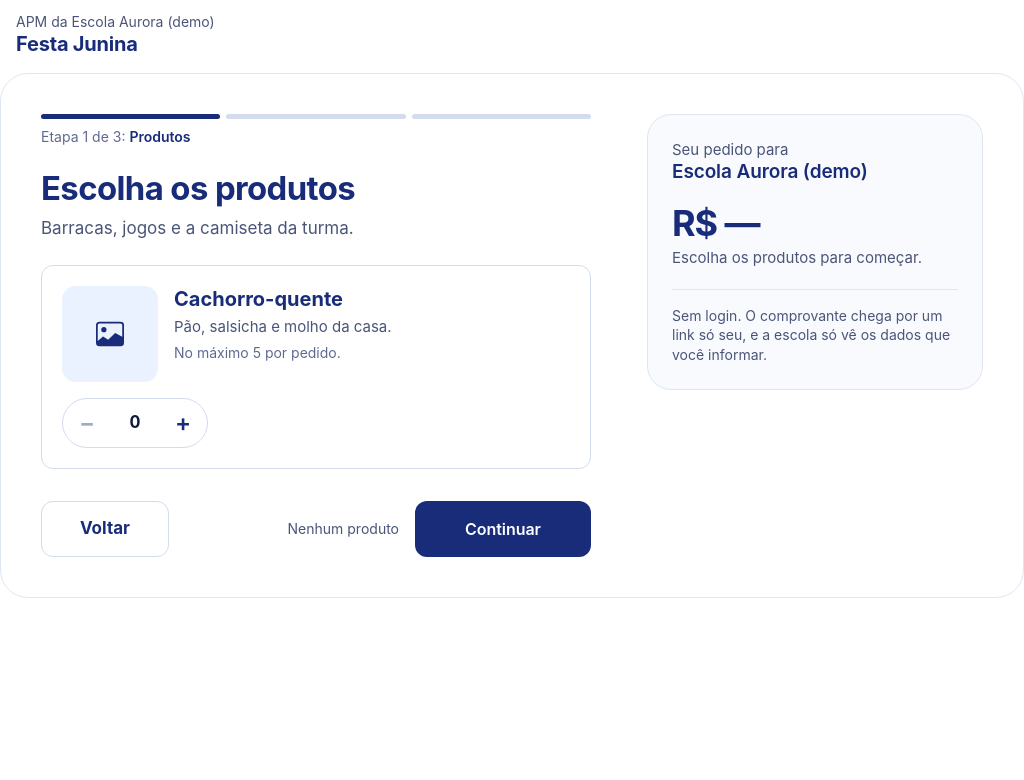
Test case: o pedido › sem campos de identificacao visiveis, pula direto da escolha para a revisao
Click the button named "Adicionar um Cachorro-quente" at [183, 423], box [159,399,207,447]
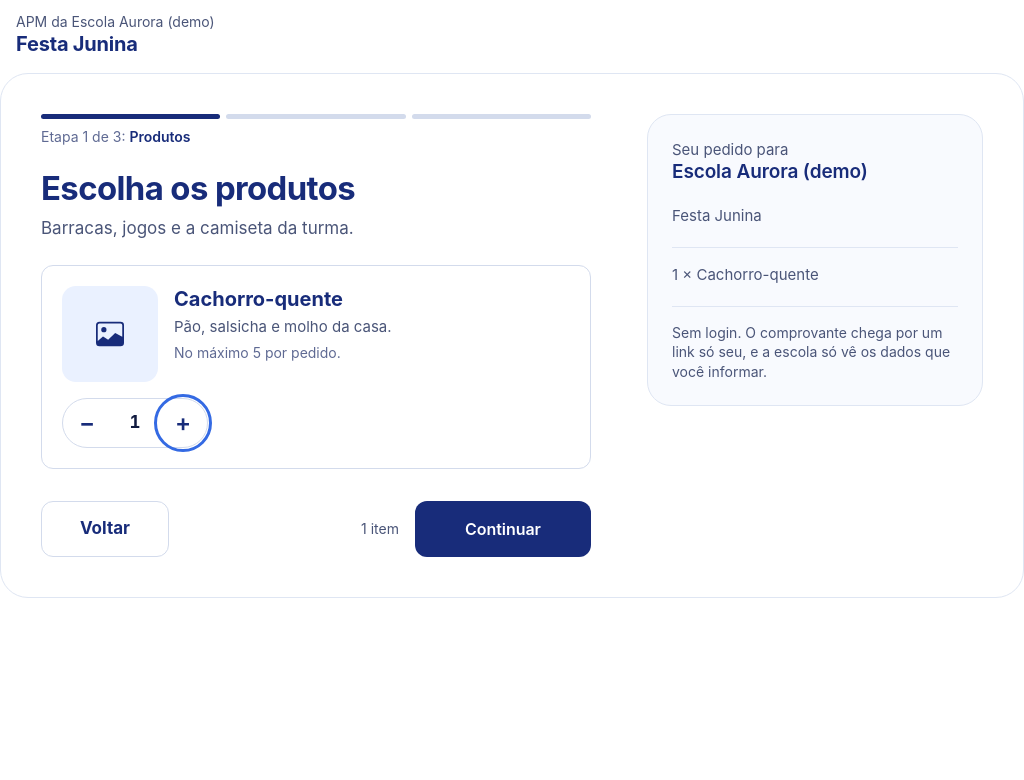
Click the button "Continuar" at [503, 529], box [415,501,591,557]
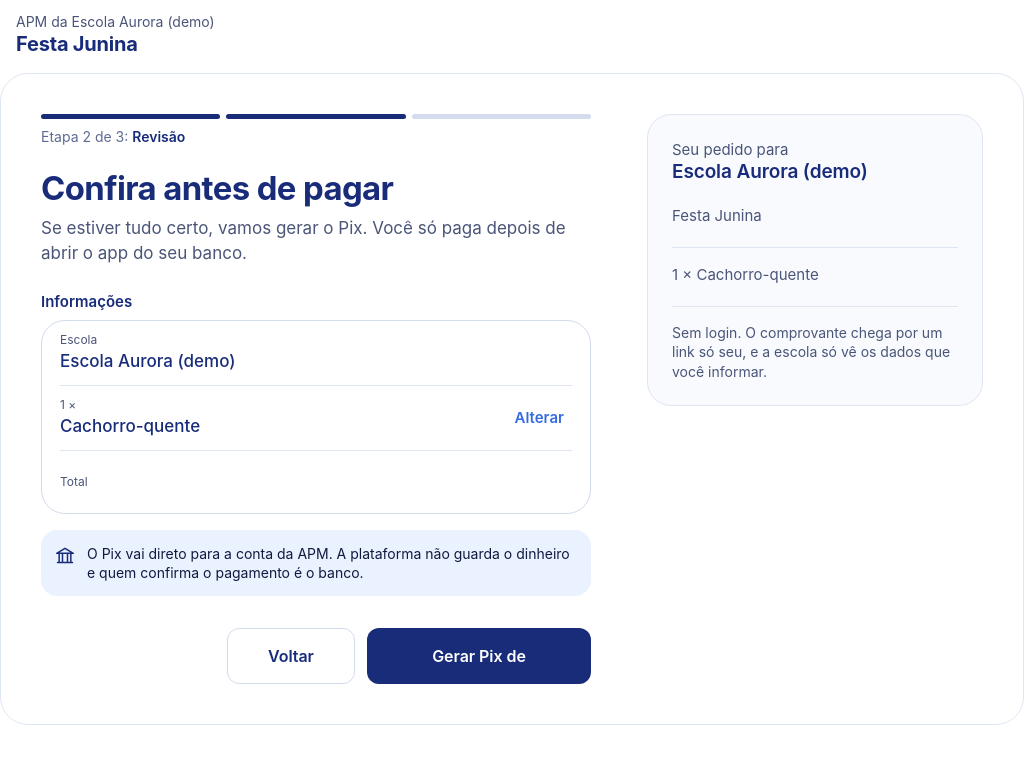
Result: the heading "Confira antes de pagar" is shown at [41,168,393,208]
